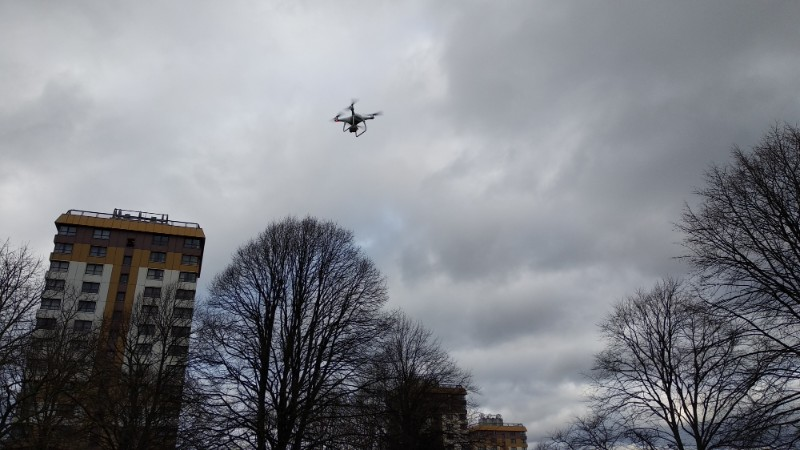drone: (331, 99, 384, 136)
